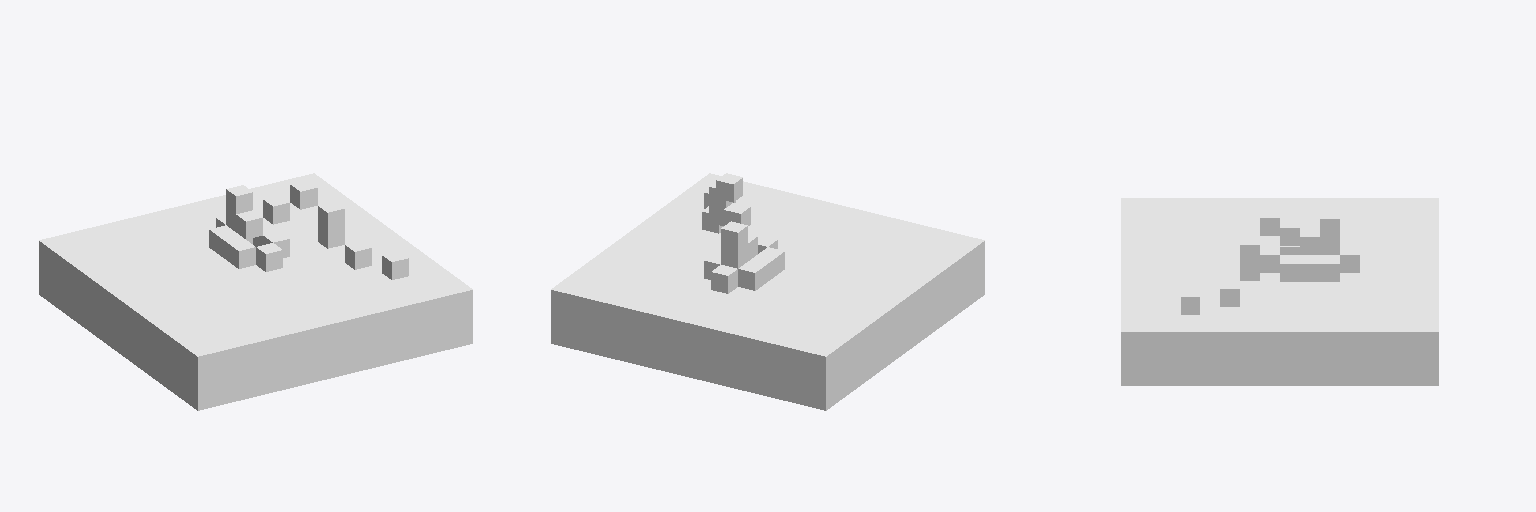
The model's file is fishing.obj.
The picture shows the model from 3 angles: view 1: azimuth 30°, elevation 25°; view 2: azimuth 150°, elevation 25°; view 3: azimuth 270°, elevation 25°; orthographic projection.
Parts seen in each view (by area): view 1: firshing; view 2: firshing; view 3: firshing.
Part boxes in pixels (left/top/right/bottom): firshing: left=39, top=173, right=472, bottom=410; firshing: left=551, top=173, right=984, bottom=410; firshing: left=1121, top=198, right=1438, bottom=385.
Bounding box in the file's own units: 16 × 7 × 16.